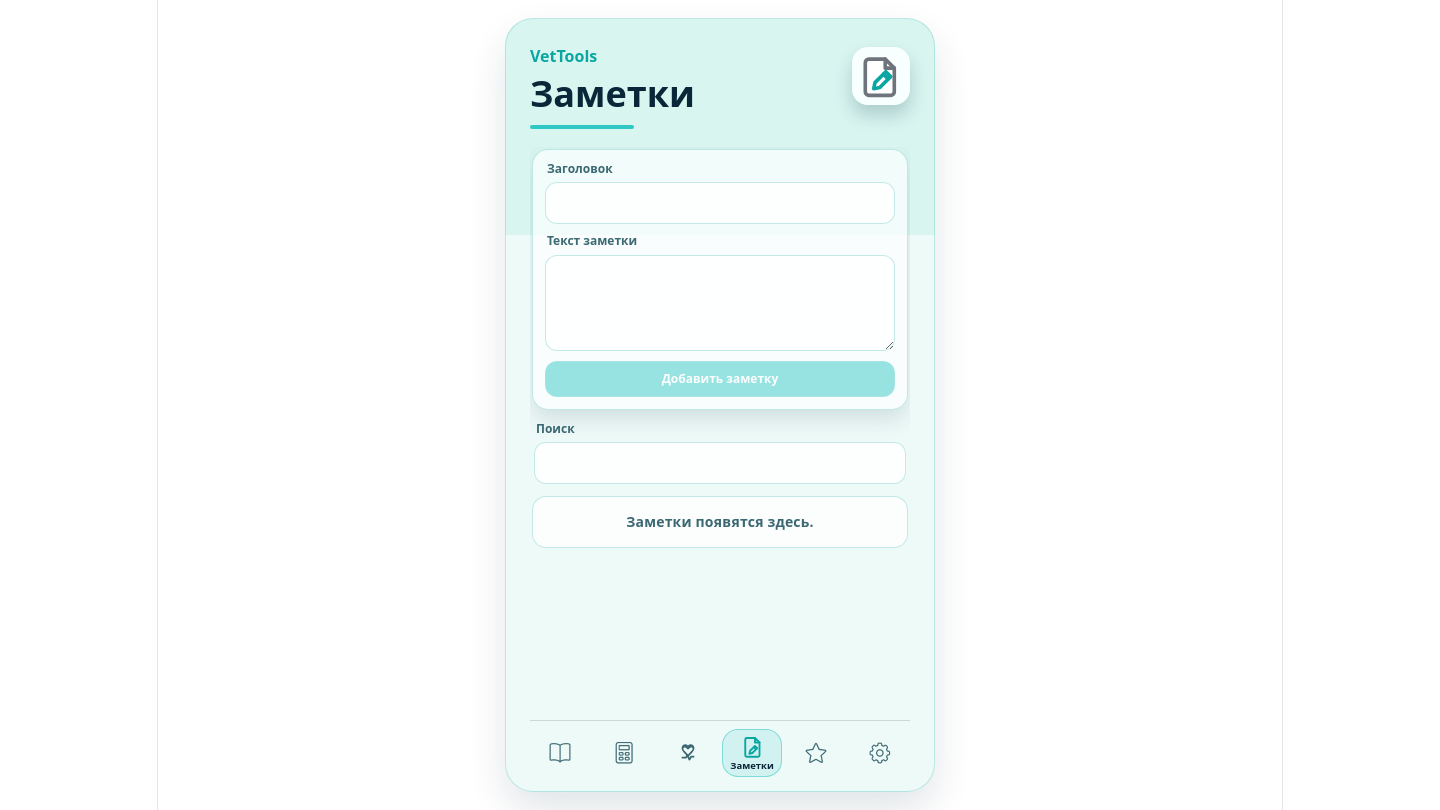
App routes › adds a note from the notes page
This screenshot has width=1440, height=810.
Type "Послеоперационный контроль" into the field labelled "Заголовок" at (720, 203), box [545,182,895,224]
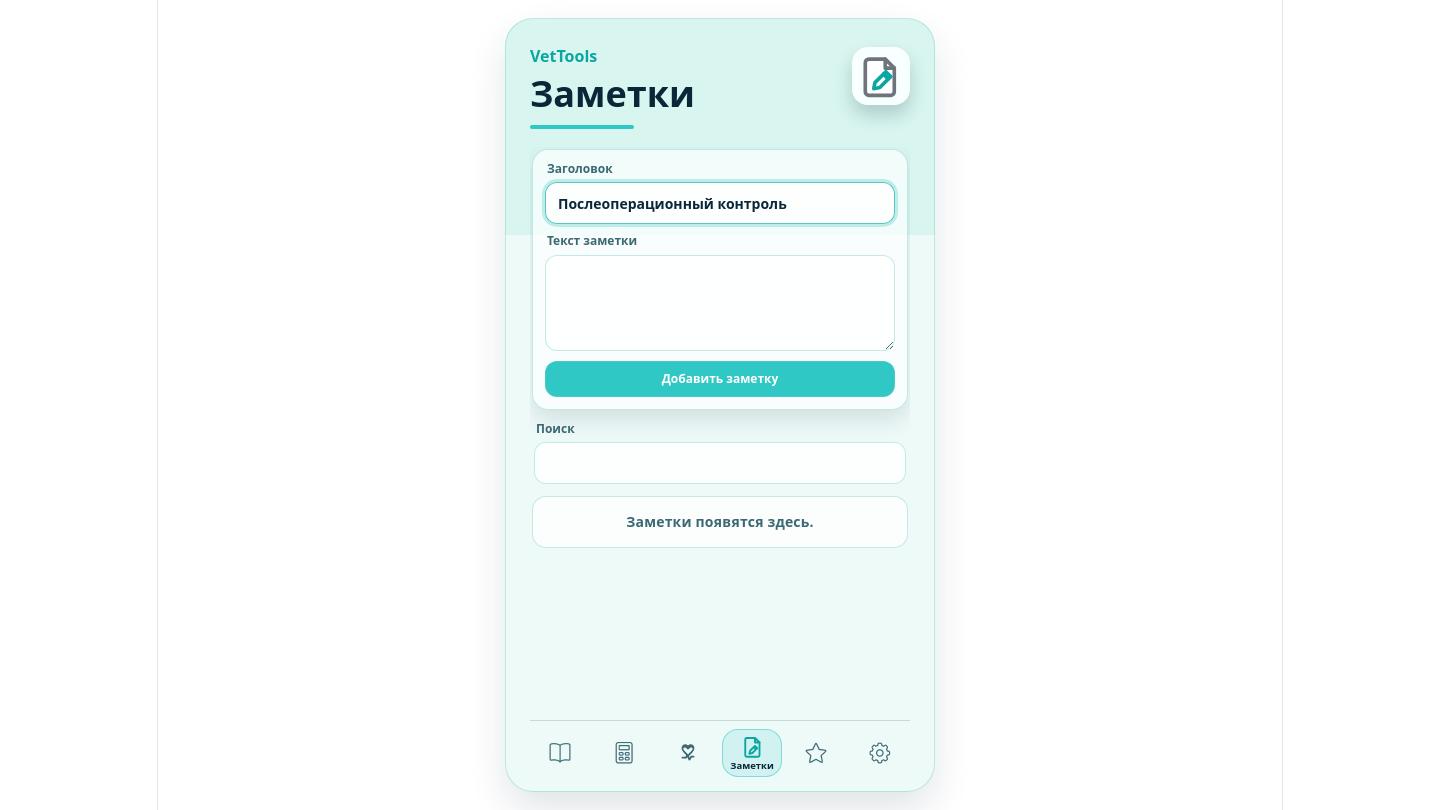
Type "Проверить диурез через 2 часа" into the text box labelled "Текст заметки" at (720, 303), box [545,255,895,351]
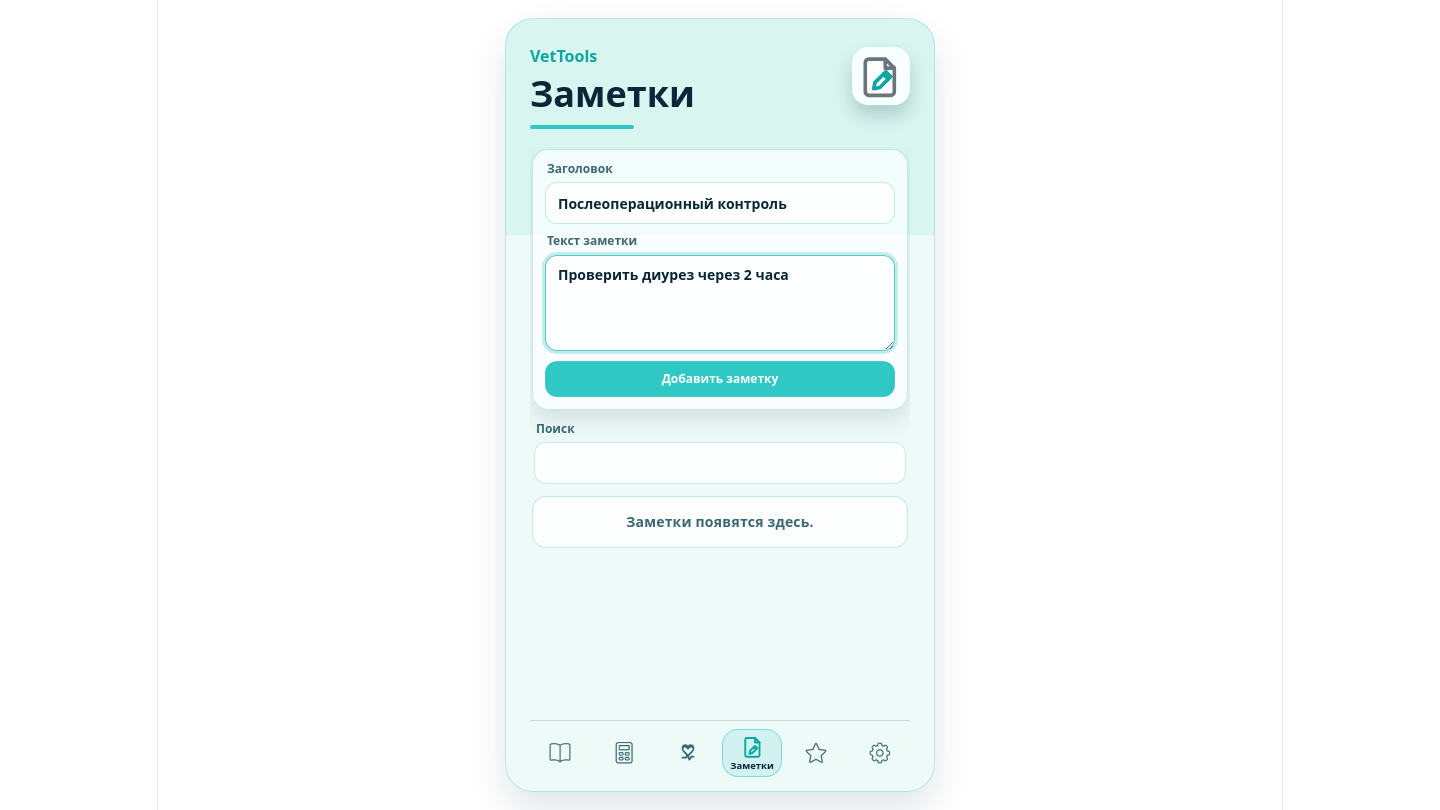
Click the button "Добавить заметку" at (720, 379), box [545,361,895,397]
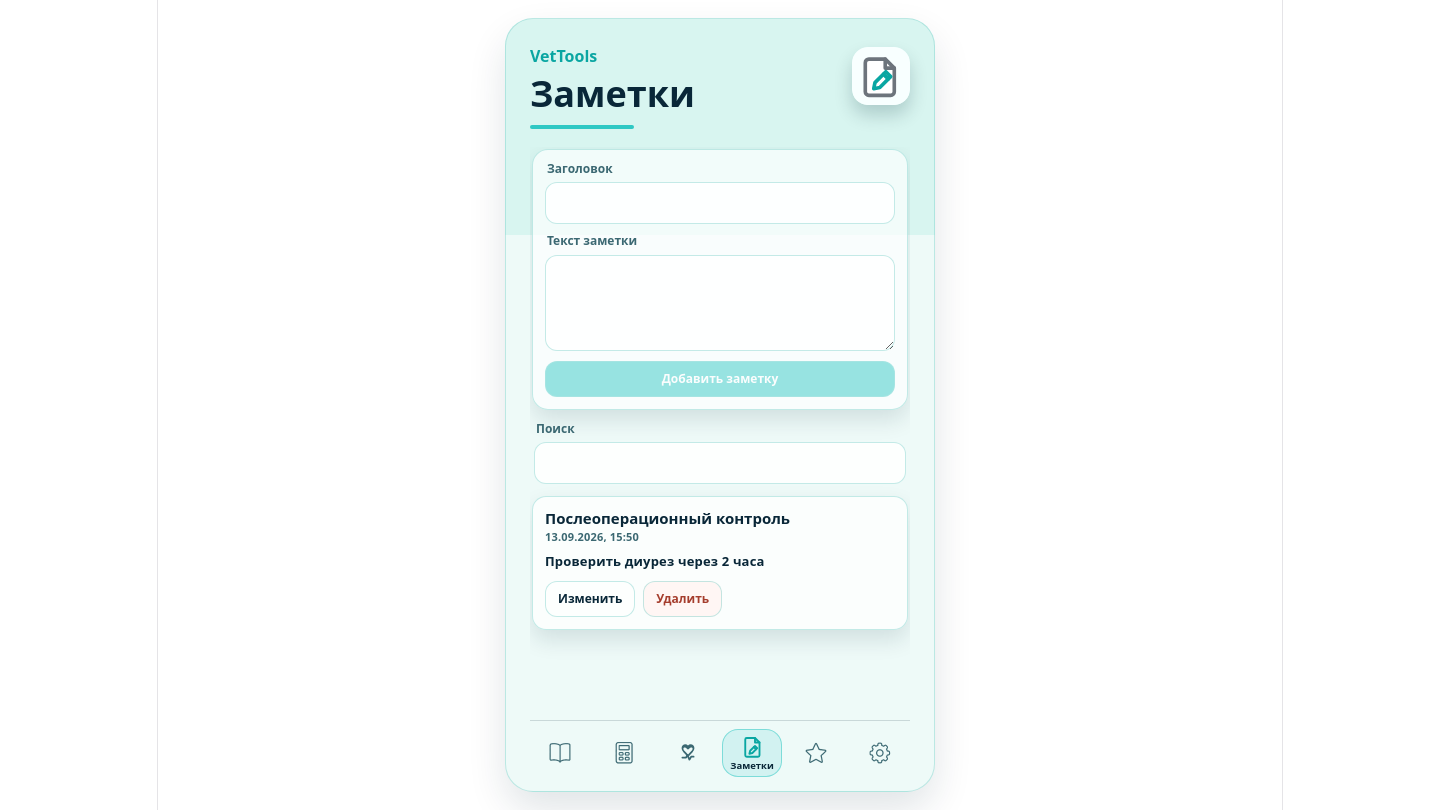
Check: the heading "Послеоперационный контроль" is shown, box [545,508,790,528]
Check: the text "Проверить диурез через 2 часа" is shown, box [545,552,764,570]
